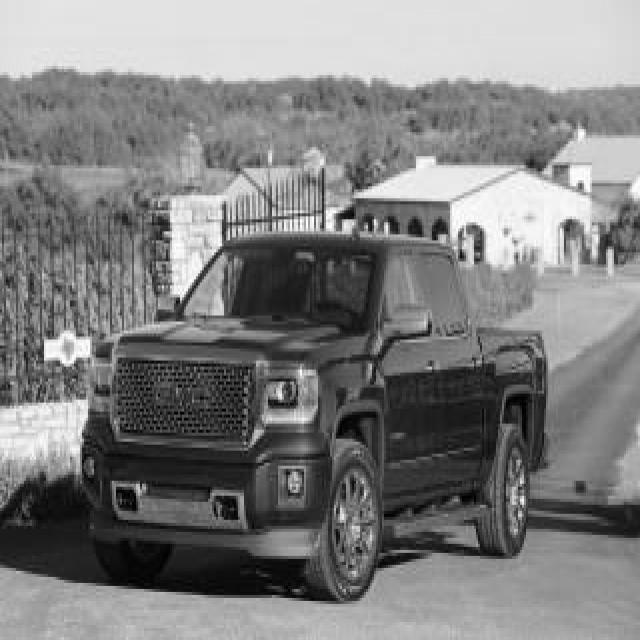Car: (81, 233, 548, 600)
